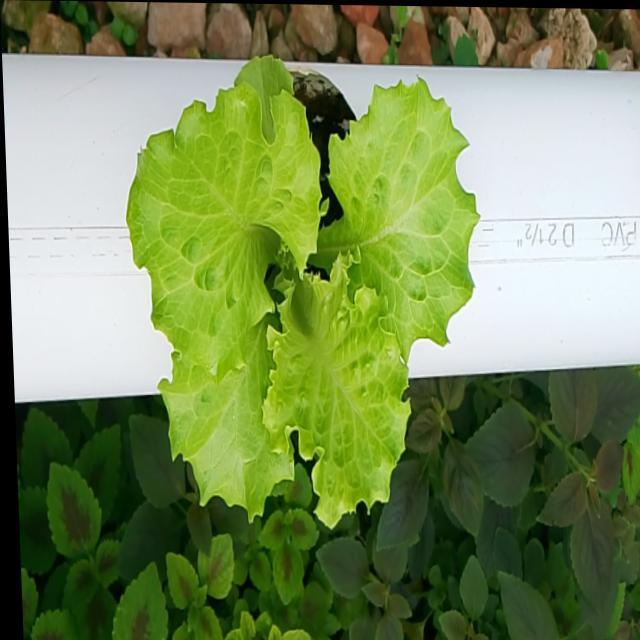Baby: (130, 68, 480, 537)
